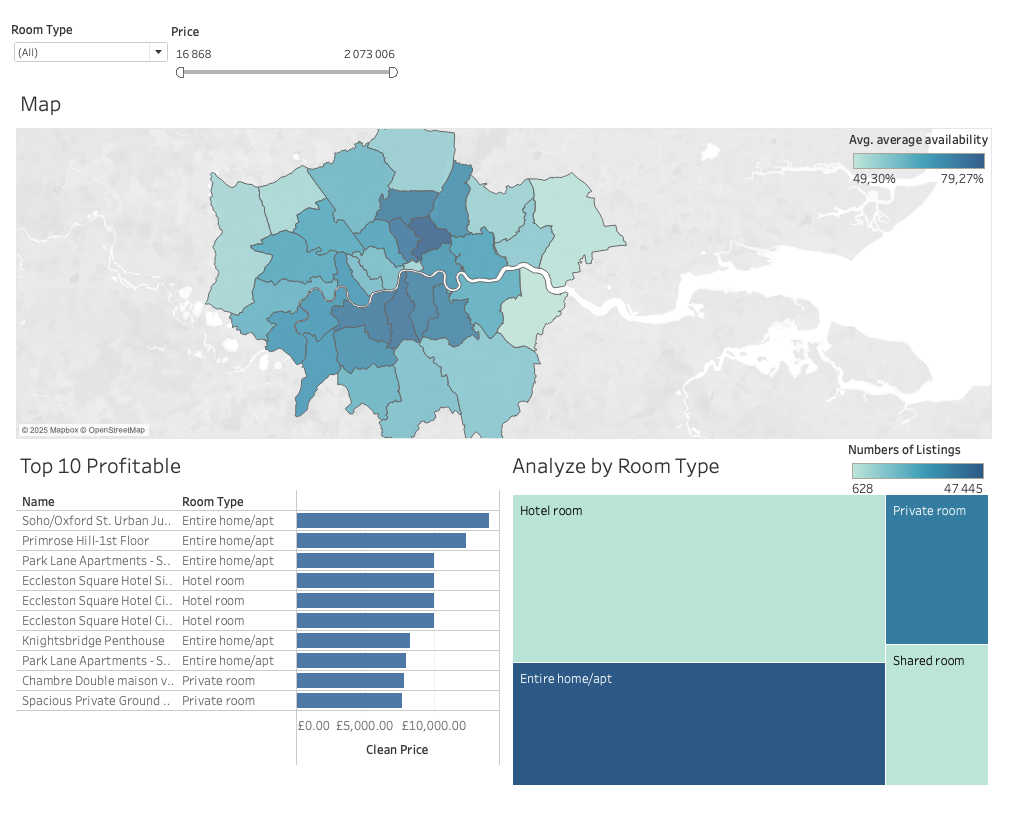

Layout of this report page (visuals, bound fields, positions):
{"tool":"tableau","page":{"name":"Dashboard 1","canvas":[1000,800],"ordinal":0},"visuals":[{"type":"filter","title":"Map","param":"[federated.1i8hp1t1s8v8ay1bbwqqm1u2x25m].[none:room_type:nk]","box":[7,9,160,44]},{"type":"filter","title":"Map","param":"[federated.1i8hp1t1s8v8ay1bbwqqm1u2x25m].[sum:price:qk]","box":[167,11,231,63]},{"type":"worksheet","title":"Map","mark":"Automatic","box":[8,69,984,361.5]},{"type":"legend","title":"Map","param":"[federated.1i8hp1t1s8v8ay1bbwqqm1u2x25m].[avg:Calculation_4678747487681167363:qk","box":[845,119,140,76]},{"type":"legend","title":"Analyze by Room Type","param":"[federated.1i8hp1t1s8v8ay1bbwqqm1u2x25m].[usr:Calculation_4678747487680925697:qk","box":[844,429,140,53]},{"type":"worksheet","title":"Top 10 Profitable","mark":"Automatic","rows":["name","room_type"],"cols":["Calculation_4678747487680274432"],"box":[8,430.5,492,361.5]},{"type":"worksheet","title":"Analyze by Room Type","mark":"Automatic","box":[500,430.5,492,361.5]}]}

Visuals, with their boxes in screenshot pixels (x1, y1, x2, y2), scaled from the page's 1000x800 canvas onto the 1010x814 screenshot:
"Map" filter: locate(7, 9, 169, 54)
"Map" filter: locate(169, 11, 402, 75)
"Map" worksheet: locate(8, 70, 1002, 438)
"Map" legend: locate(853, 121, 995, 198)
"Analyze by Room Type" legend: locate(852, 437, 994, 490)
"Top 10 Profitable" worksheet: locate(8, 438, 505, 806)
"Analyze by Room Type" worksheet: locate(505, 438, 1002, 806)
